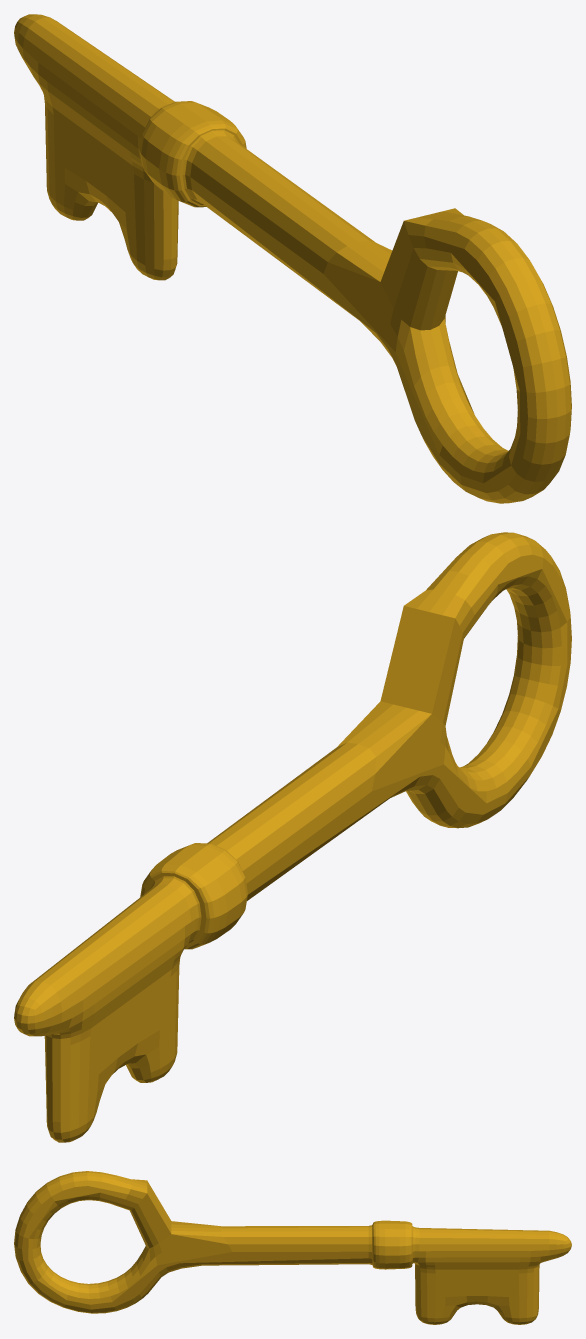
File: chaveporta3.fbx
3 renders of one model, top to bottom at view 1: azimuth 30°, elevation 25°; view 2: azimuth 150°, elevation 25°; view 3: azimuth 270°, elevation 25°, orthographic. The views are drawn at different scales.
Visible parts, largest first — view 1: chave4; view 2: chave4; view 3: chave4.
Part boxes in pixels (x1=…): chave4: x1=14, y1=14, x2=571, y2=503; chave4: x1=14, y1=532, x2=571, y2=1142; chave4: x1=14, y1=1171, x2=571, y2=1324.
Size of the model in its own units: 0.3024 by 1.02 by 3.39.
